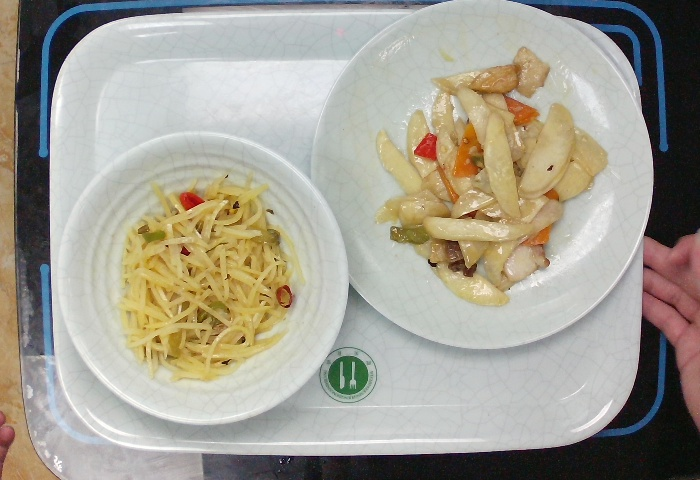JYsf-Da_Yuan_Pan: (308, 1, 656, 350)
JYsf-Xiao_Tang_Wan: (54, 129, 351, 426)
